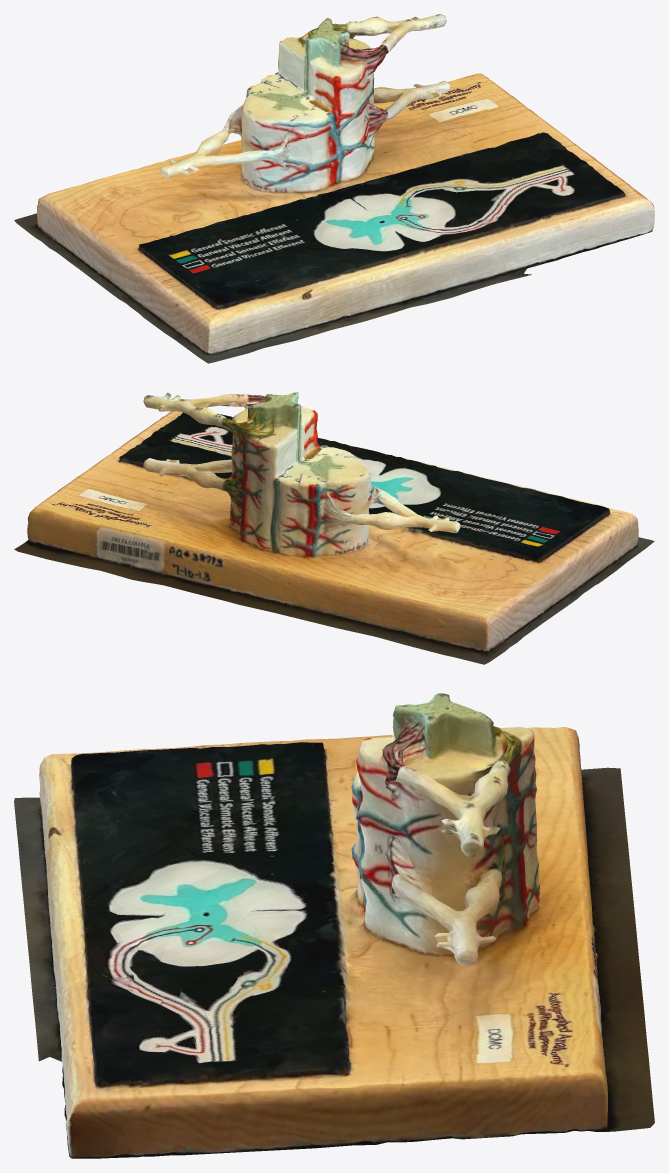
The model's file is spinal-cord-model-lite.glb.
3 views of the same model, one above another, from view 1: azimuth 30°, elevation 25°; view 2: azimuth 150°, elevation 25°; view 3: azimuth 270°, elevation 25° (orthographic). The views are drawn at different scales.
Parts seen in each view (by area): view 1: Object_4; view 2: Object_4; view 3: Object_4.
Part boxes in pixels (x1,y1,x2,y2): Object_4: (14, 14, 654, 363); Object_4: (14, 392, 654, 664); Object_4: (14, 693, 654, 1158).
Bounding box in the file's own units: 0.3238 × 0.1158 × 0.2283.
1 material, 1 textured.
